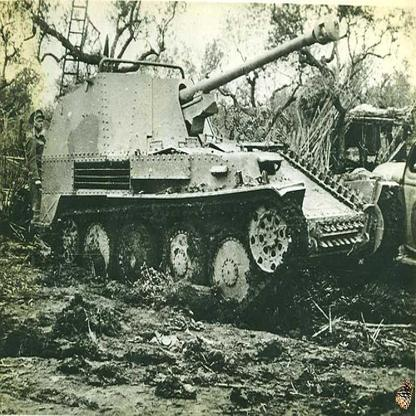Tank: (35, 20, 392, 323)
